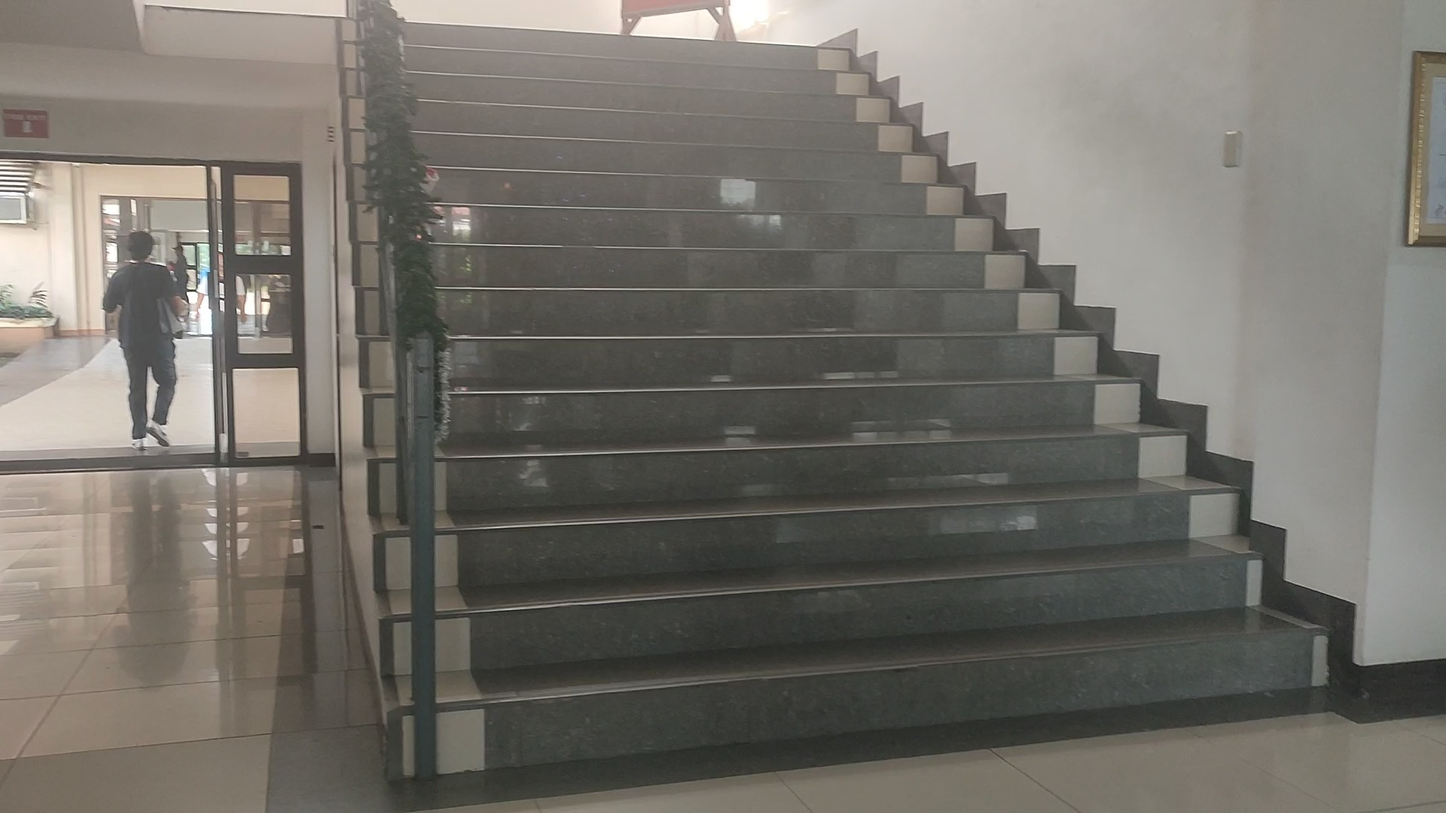Staircase: (404, 27, 1446, 792)
